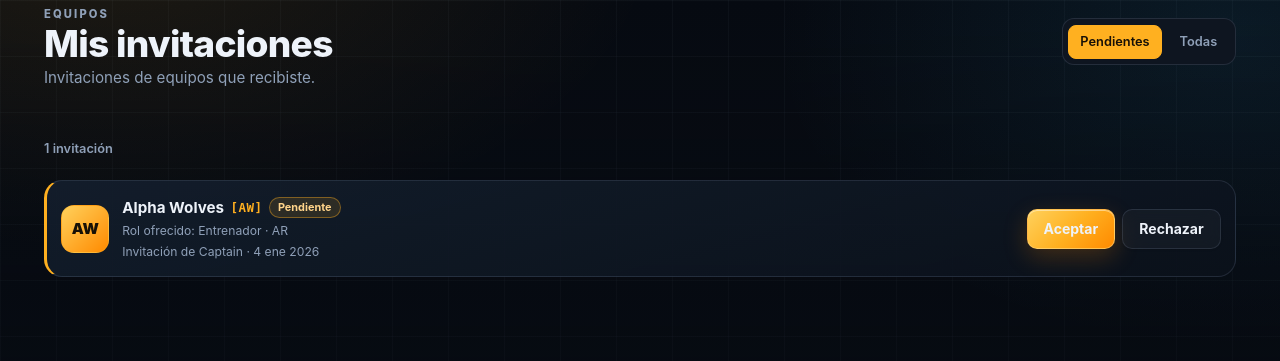
Scenario: Invitations page › shows an error from the API when responding fails
The image size is (1280, 361).
Click the button "Aceptar": click(1071, 229) [1027, 209, 1115, 249]
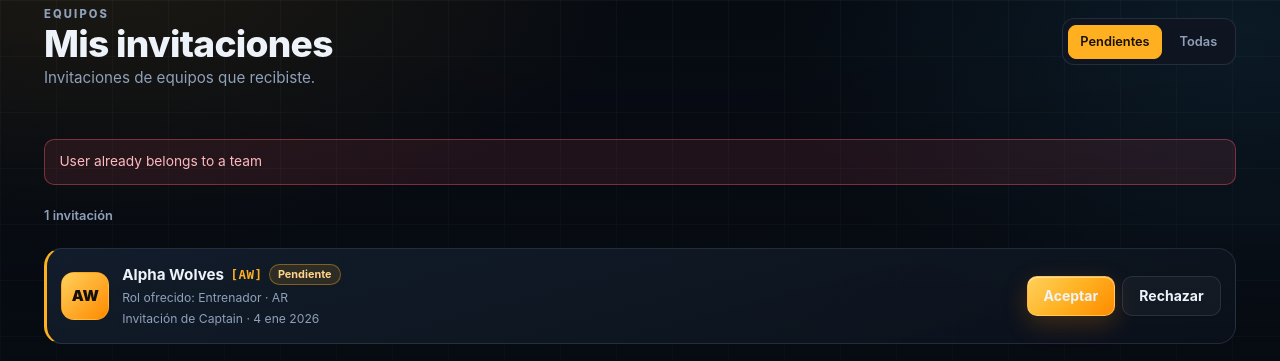
Expected: the message reads "User already belongs to a team", [59, 153, 262, 169]
